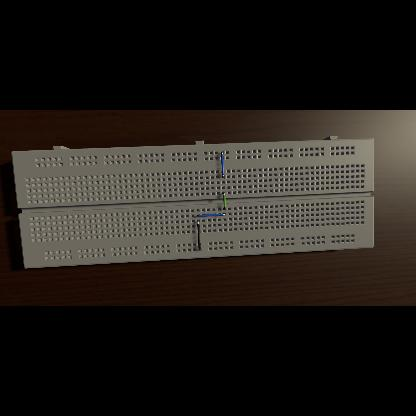breadboard: (12, 136, 374, 270)
wire: (220, 152, 224, 178), (197, 214, 225, 217), (222, 192, 226, 210), (198, 221, 200, 251)
